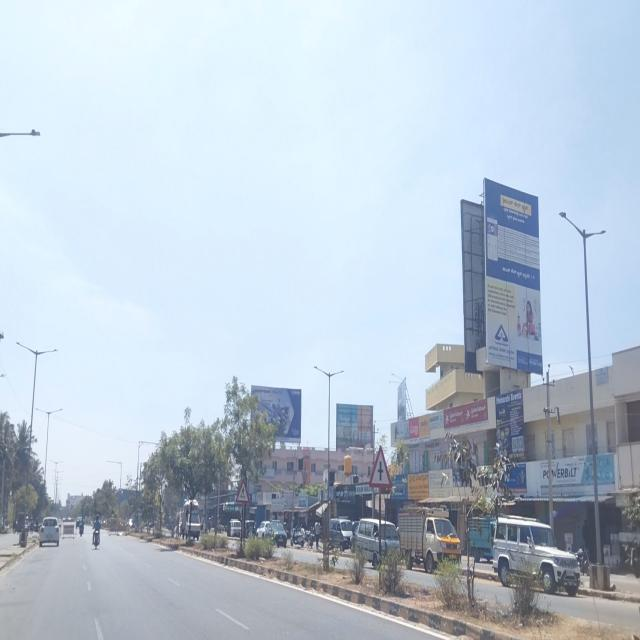bien_cam: (368, 445, 392, 488), (236, 479, 250, 505)
